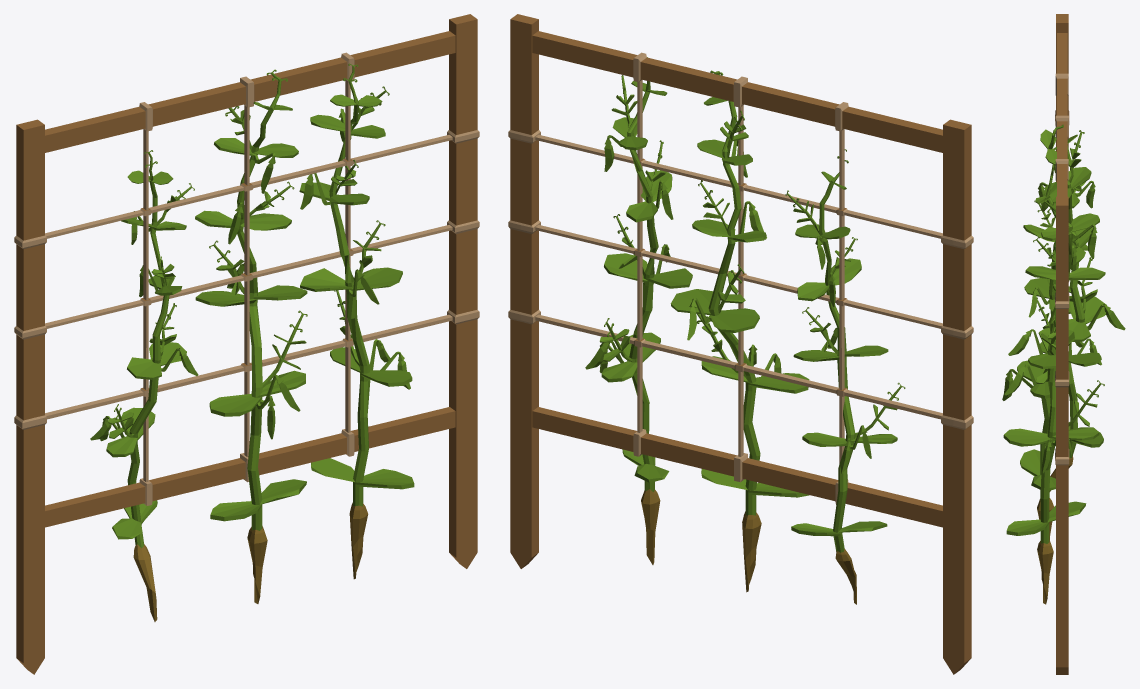
File: mod_Pea_Full.fbx
3 renders of one model, left to right at view 1: azimuth 30°, elevation 25°; view 2: azimuth 150°, elevation 25°; view 3: azimuth 270°, elevation 25°, orthographic. The views are drawn at different scales.
Parts seen in each view (by area): view 1: PeaTrellis, PeaVine, PeaVine.001, PeaVine.002; view 2: PeaTrellis, PeaVine, PeaVine.001, PeaVine.002; view 3: PeaTrellis, PeaVine.001, PeaVine, PeaVine.002.
Part boxes in pixels (x1=…): PeaTrellis: x1=14, y1=14, x2=479, y2=674; PeaVine: x1=195, y1=69, x2=307, y2=603; PeaVine.001: x1=299, y1=63, x2=414, y2=579; PeaVine.002: x1=90, y1=150, x2=198, y2=621; PeaTrellis: x1=508, y1=14, x2=973, y2=674; PeaVine: x1=670, y1=70, x2=809, y2=592; PeaVine.001: x1=585, y1=57, x2=692, y2=564; PeaVine.002: x1=785, y1=149, x2=905, y2=604; PeaTrellis: x1=1055, y1=14, x2=1069, y2=674; PeaVine.001: x1=1003, y1=162, x2=1105, y2=604; PeaVine: x1=1002, y1=124, x2=1125, y2=540; PeaVine.002: x1=1023, y1=134, x2=1103, y2=491.
Bounding box in the file's own units: 478 × 547 × 129.
